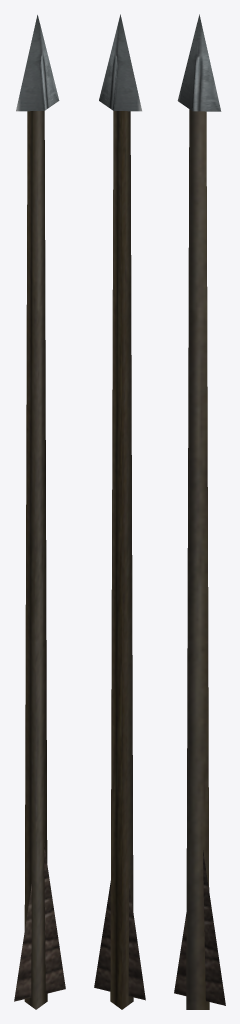
File: arrow.FBX
The picture shows the model from 3 angles, left to right: view 1: azimuth 30°, elevation 25°; view 2: azimuth 150°, elevation 25°; view 3: azimuth 330°, elevation 25°; orthographic projection.
Parts seen in each view (by area): view 1: arrow; view 2: arrow; view 3: arrow.
Boxes of the visible parts, left/top/right/bottom form: arrow: left=14, top=15, right=65, bottom=1009; arrow: left=94, top=14, right=145, bottom=1009; arrow: left=174, top=14, right=225, bottom=1009.
Bounding box in the file's own units: 2.99 × 54.65 × 1.37.
